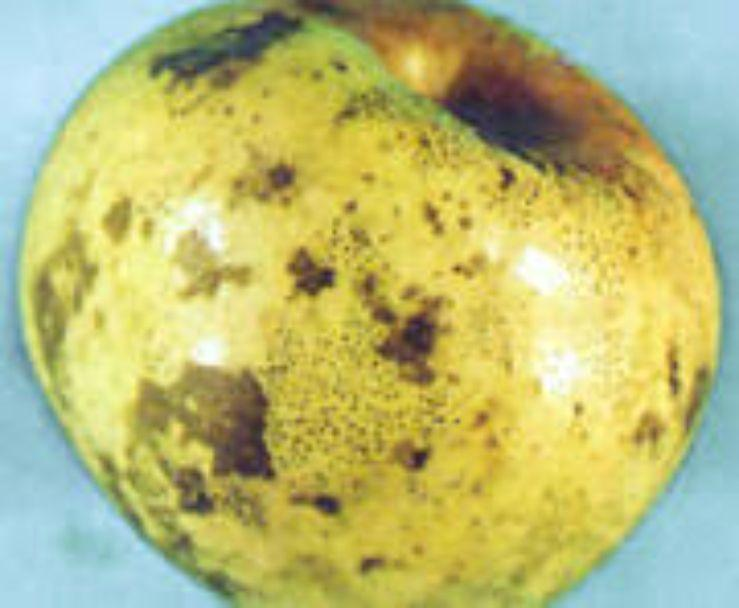BLOTCH: (18, 32, 707, 585)
